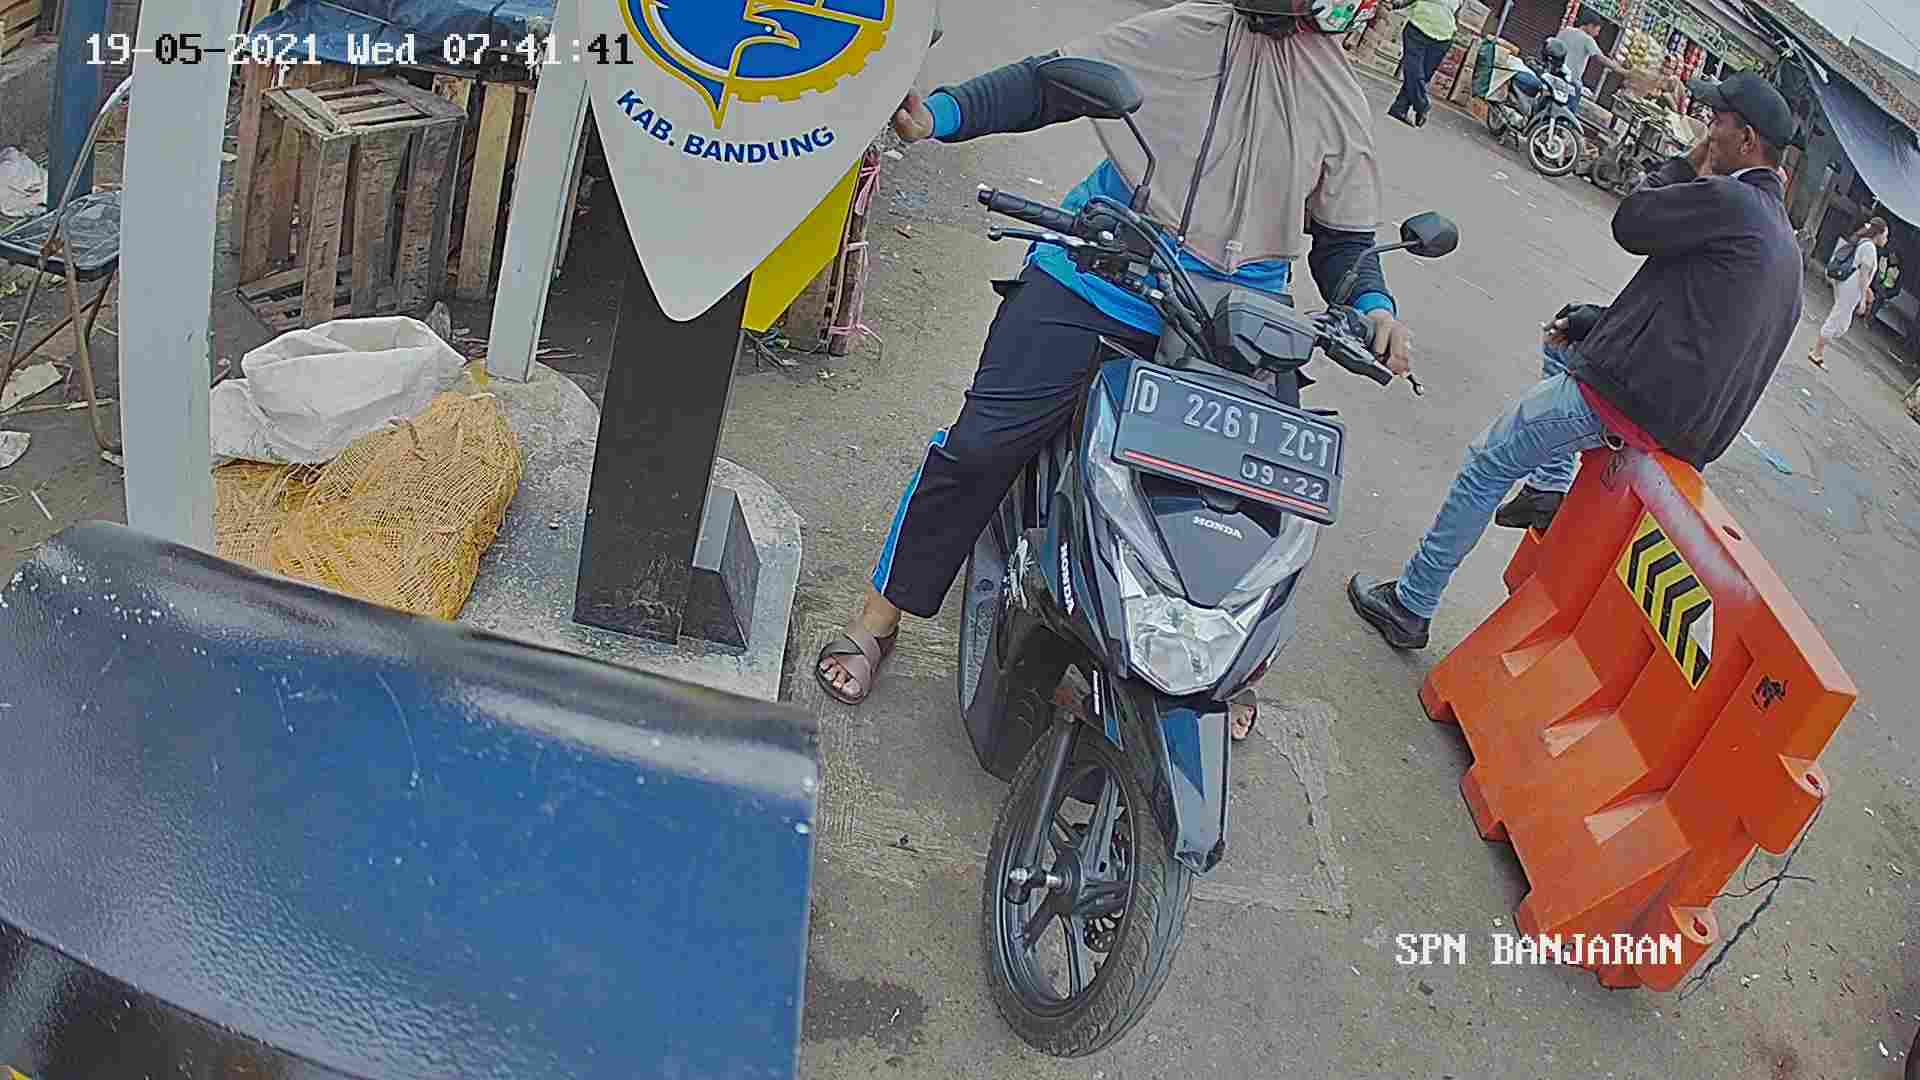motor: (909, 160, 1349, 1056)
